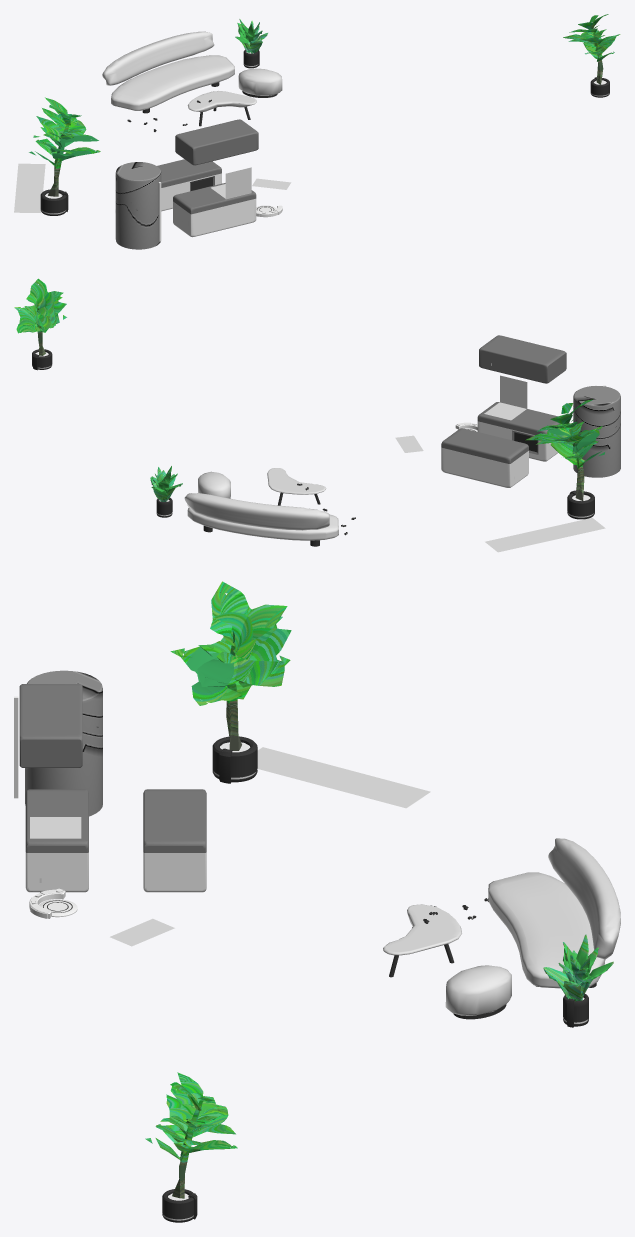
Rendered from Kitchen_Livingroom.fbx.
The picture shows the model from 3 angles, top to bottom: view 1: azimuth 30°, elevation 25°; view 2: azimuth 150°, elevation 25°; view 3: azimuth 270°, elevation 25°; orthographic projection. The views are drawn at different scales.
Parts seen in each view (by area): view 1: SM_Couch, SM_Fridge, SM_KitchenStove, SM_Tree_Livingroom, SM_KitchenTop, SM_KitchenBlock, SM_Tree_Bedroom, T_Panels.003, SM_Poof, SM_Table, SM_Plant_Livingroom, T_Panels.002; view 2: SM_Couch, SM_KitchenBlock, SM_Fridge, SM_Tree_Livingroom, SM_KitchenTop, SM_KitchenStove, SM_Tree_Bedroom, T_Panels.003, SM_Table, SM_Plant_Livingroom, T_Panels.002, SM_Poof (+1 smaller); view 3: SM_Couch, SM_Tree_Livingroom, SM_KitchenBlock, SM_KitchenStove, SM_KitchenTop, SM_Tree_Bedroom, SM_Fridge, T_Panels.003, SM_Poof, SM_Plant_Livingroom, SM_Table, T_Panels.001 (+2 smaller).
Part boxes in pixels (left/top/right/bottom): SM_Couch: left=102, top=31, right=234, bottom=113; SM_Fridge: left=115, top=162, right=161, bottom=249; SM_KitchenStove: left=173, top=183, right=256, bottom=237; SM_Tree_Livingroom: left=29, top=97, right=100, bottom=215; SM_KitchenTop: left=175, top=119, right=258, bottom=165; SM_KitchenBlock: left=157, top=159, right=221, bottom=211; SM_Tree_Bedroom: left=563, top=14, right=620, bottom=97; T_Panels.003: left=14, top=163, right=45, bottom=212; SM_Poof: left=238, top=68, right=282, bottom=97; SM_Table: left=187, top=91, right=256, bottom=126; SM_Plant_Livingroom: left=235, top=19, right=267, bottom=68; T_Panels.002: left=225, top=167, right=251, bottom=199; SM_Couch: left=184, top=493, right=338, bottom=546; SM_KitchenBlock: left=441, top=428, right=528, bottom=487; SM_Fridge: left=573, top=386, right=620, bottom=477; SM_Tree_Livingroom: left=525, top=399, right=604, bottom=519; SM_KitchenTop: left=479, top=335, right=566, bottom=383; SM_KitchenStove: left=477, top=402, right=560, bottom=461; SM_Tree_Bedroom: left=14, top=278, right=66, bottom=370; T_Panels.003: left=485, top=517, right=605, bottom=552; SM_Table: left=267, top=468, right=326, bottom=505; SM_Plant_Livingroom: left=150, top=466, right=182, bottom=517; T_Panels.002: left=500, top=375, right=527, bottom=408; SM_Poof: left=198, top=471, right=230, bottom=498; SM_Couch: left=488, top=838, right=620, bottom=988; SM_Tree_Livingroom: left=170, top=581, right=291, bottom=783; SM_KitchenBlock: left=143, top=789, right=206, bottom=892; SM_KitchenStove: left=25, top=789, right=88, bottom=892; SM_KitchenTop: left=19, top=684, right=82, bottom=767; SM_Tree_Bedroom: left=145, top=1072, right=237, bottom=1222; SM_Fridge: left=25, top=670, right=102, bottom=816; T_Panels.003: left=257, top=747, right=430, bottom=808; SM_Poof: left=445, top=965, right=511, bottom=1019; SM_Plant_Livingroom: left=543, top=934, right=613, bottom=1027; SM_Table: left=383, top=904, right=461, bottom=977; T_Panels.001: left=30, top=817, right=81, bottom=838.
Bounding box in the file's own units: 1778 × 320 × 934.
